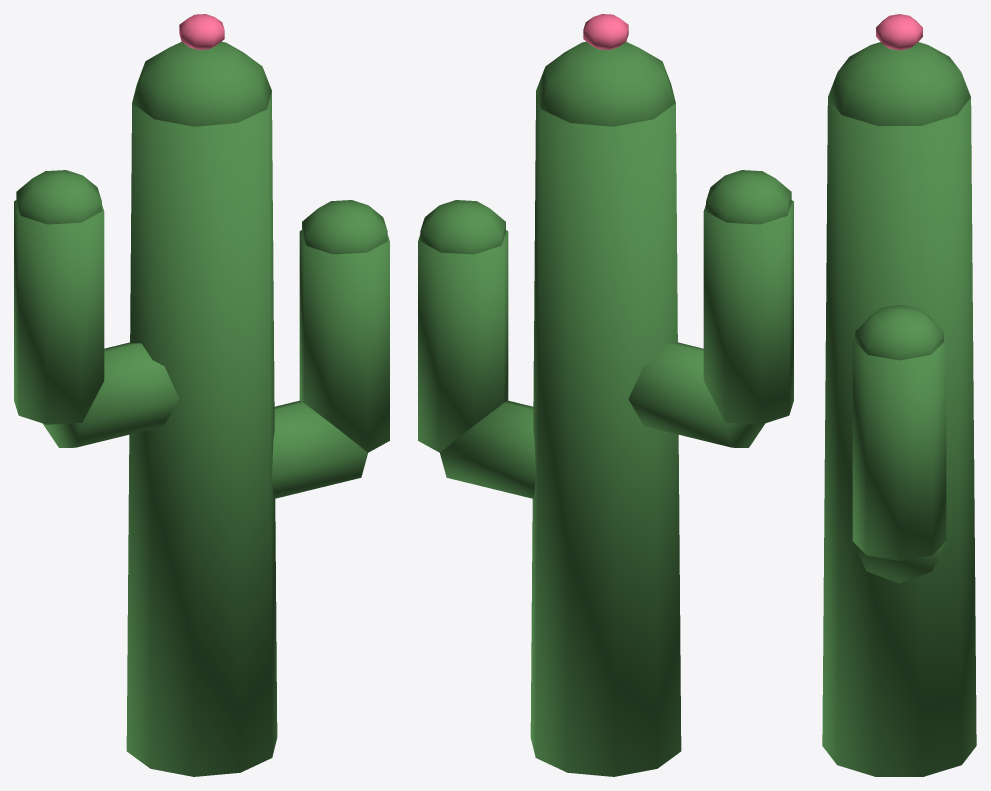
Rendered from cactus.glb.
The picture shows the model from 3 angles, left to right: view 1: azimuth 30°, elevation 25°; view 2: azimuth 150°, elevation 25°; view 3: azimuth 270°, elevation 25°; orthographic projection.
Parts seen in each view (by area): view 1: Cactus; view 2: Cactus; view 3: Cactus.
Boxes of the visible parts, box(x1,y1,x2,y2) form: Cactus: box(14, 14, 389, 776); Cactus: box(418, 14, 793, 776); Cactus: box(822, 14, 976, 776).
Bounding box in the file's own units: 1.54 × 2.92 × 0.56.
